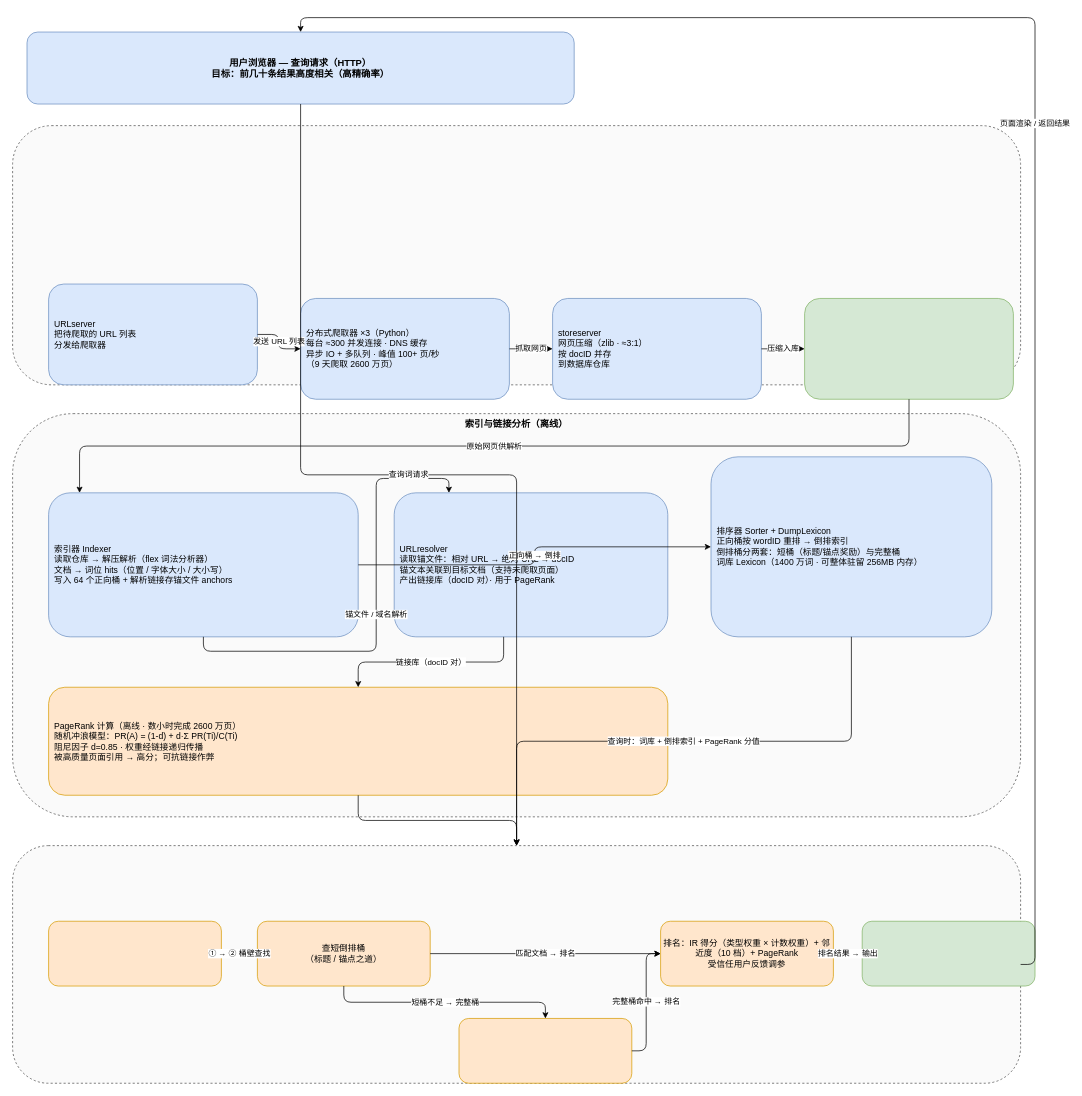
Some shapes in this 1082 by 1096 pixel diagram are drawn without their labels. Each missing label, with the box of its shape:
不足时查完整倒排桶 （限 40000 个匹配文档控制响应）: (458, 1018, 632, 1083)
仓库 Repository（数据） 完整 HTML · 由爬取页 147.9GB 压缩至 53.5GB 按 docId / 长度 / URL 前缀记录: (804, 298, 1013, 399)
查询处理（在线）: (12, 845, 1021, 1083)
爬取与归档（离线）: (12, 125, 1021, 385)
解析查询 词 → wordID: (48, 921, 221, 986)
返回前 K 条结果（按排名） 二次查询缓存提升至 0.06–1.8 秒: (861, 921, 1035, 986)
